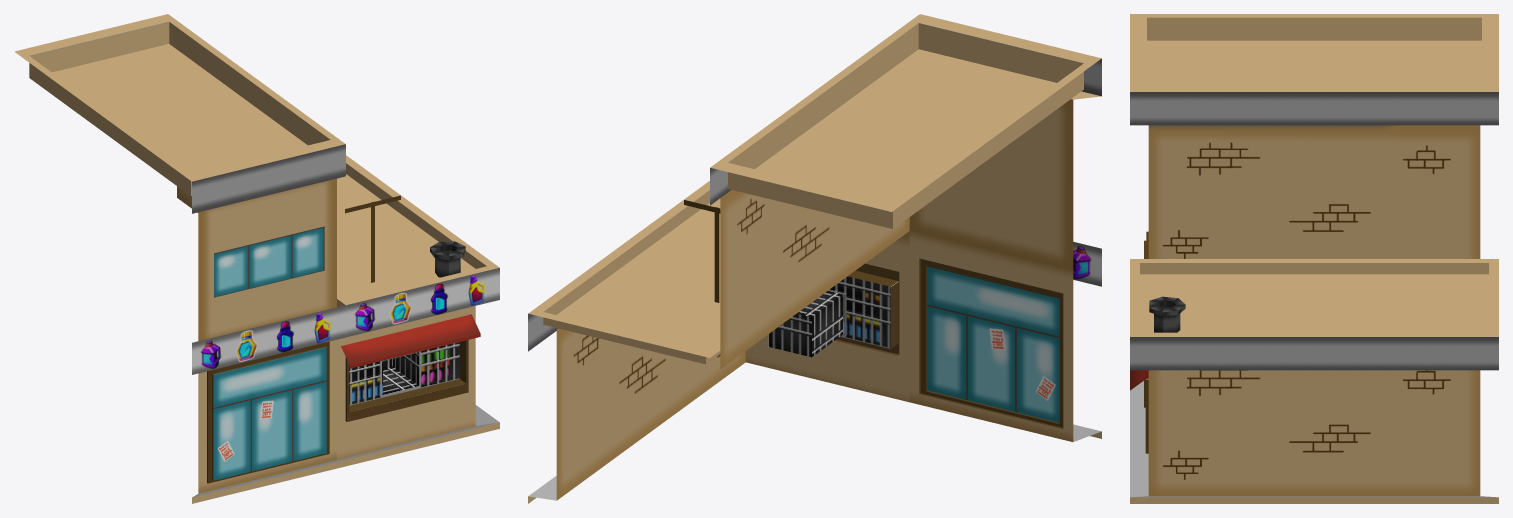
Rendered from Me_Building2.fbx.
3 views of the same model, side by side, from view 1: azimuth 30°, elevation 25°; view 2: azimuth 150°, elevation 25°; view 3: azimuth 270°, elevation 25° (orthographic). The views are drawn at different scales.
Parts seen in each view (by area): view 1: building2; view 2: building2; view 3: building2.
Boxes of the visible parts, x1,y1,x2,y2 form: building2: [14, 14, 499, 503]; building2: [528, 14, 1101, 503]; building2: [1130, 14, 1498, 503].
Bounding box in the file's own units: 1000 × 1000 × 1000.
